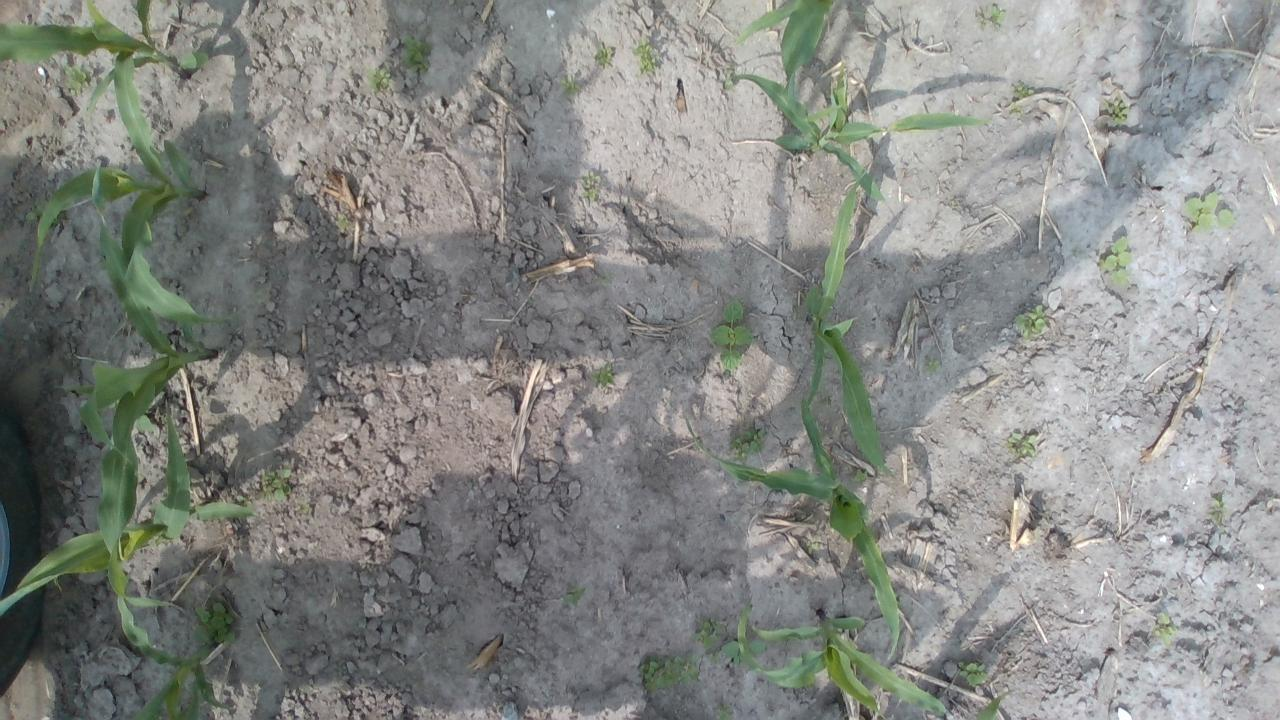Maize: (57, 158, 220, 668), (0, 392, 261, 624), (680, 390, 900, 658), (30, 53, 236, 328), (730, 64, 990, 206), (797, 180, 892, 478), (0, 0, 210, 114), (736, 604, 949, 714), (112, 597, 232, 720), (736, 0, 831, 104), (975, 691, 1007, 720)
Weeds: (709, 298, 754, 370), (639, 653, 701, 690), (1184, 192, 1236, 232), (1096, 234, 1132, 289), (195, 602, 237, 646), (398, 32, 432, 74), (730, 428, 768, 464), (719, 640, 767, 668), (1012, 304, 1046, 341), (631, 37, 660, 73), (63, 64, 91, 98), (694, 617, 722, 651), (264, 469, 291, 502), (1152, 612, 1178, 646), (977, 3, 1006, 33), (957, 660, 987, 688), (1007, 432, 1037, 459), (1101, 98, 1128, 126), (367, 67, 392, 93), (579, 173, 602, 200), (1206, 496, 1228, 524), (559, 588, 585, 610), (559, 74, 581, 98), (592, 363, 614, 386), (24, 202, 46, 222), (135, 414, 157, 434), (1009, 84, 1035, 99), (850, 468, 868, 486), (594, 47, 612, 64), (716, 704, 734, 720), (236, 494, 256, 506), (724, 68, 736, 88), (927, 359, 940, 373), (1009, 105, 1025, 116), (598, 274, 610, 288), (806, 541, 818, 553), (108, 400, 120, 408)
